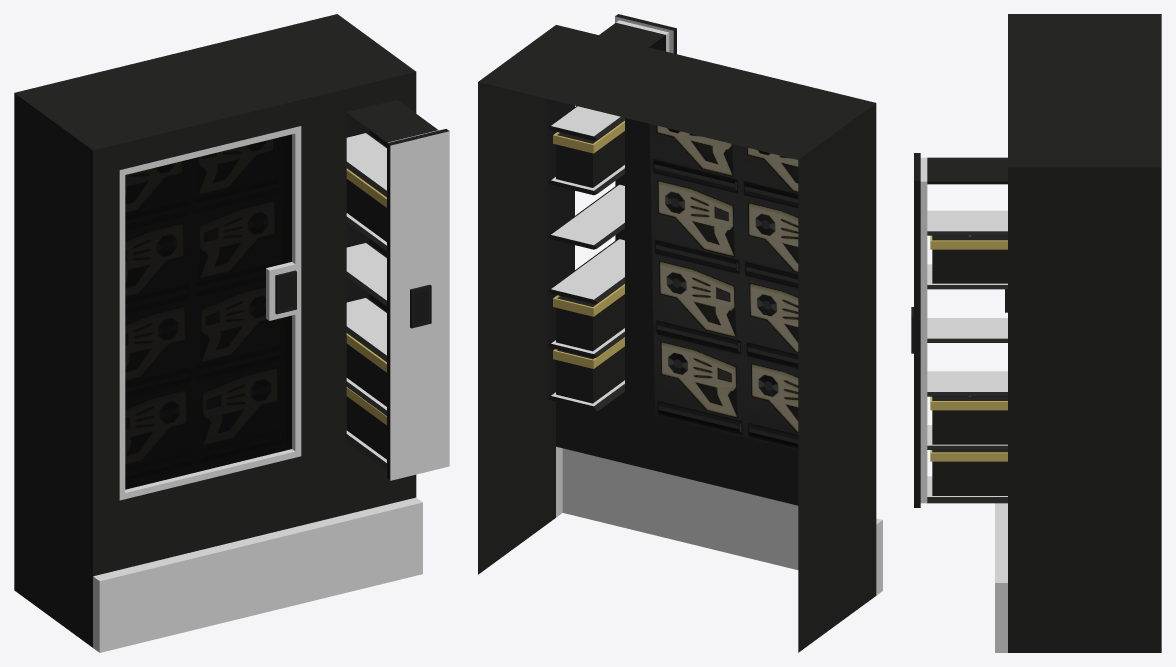
The model's file is Gun_Cabinet_Open.fbx.
The picture shows the model from 3 angles, left to right: view 1: azimuth 30°, elevation 25°; view 2: azimuth 150°, elevation 25°; view 3: azimuth 270°, elevation 25°; orthographic projection. The views are drawn at different scales.
Visible parts, largest first — view 1: Gun_Cabinet_Open; view 2: Gun_Cabinet_Open; view 3: Gun_Cabinet_Open.
Boxes of the visible parts, left/top/right/bottom form: Gun_Cabinet_Open: left=14, top=14, right=449, bottom=652; Gun_Cabinet_Open: left=478, top=14, right=882, bottom=652; Gun_Cabinet_Open: left=911, top=14, right=1161, bottom=652.
Size of the model in its own units: 2.26 by 1.55 by 3.32.
